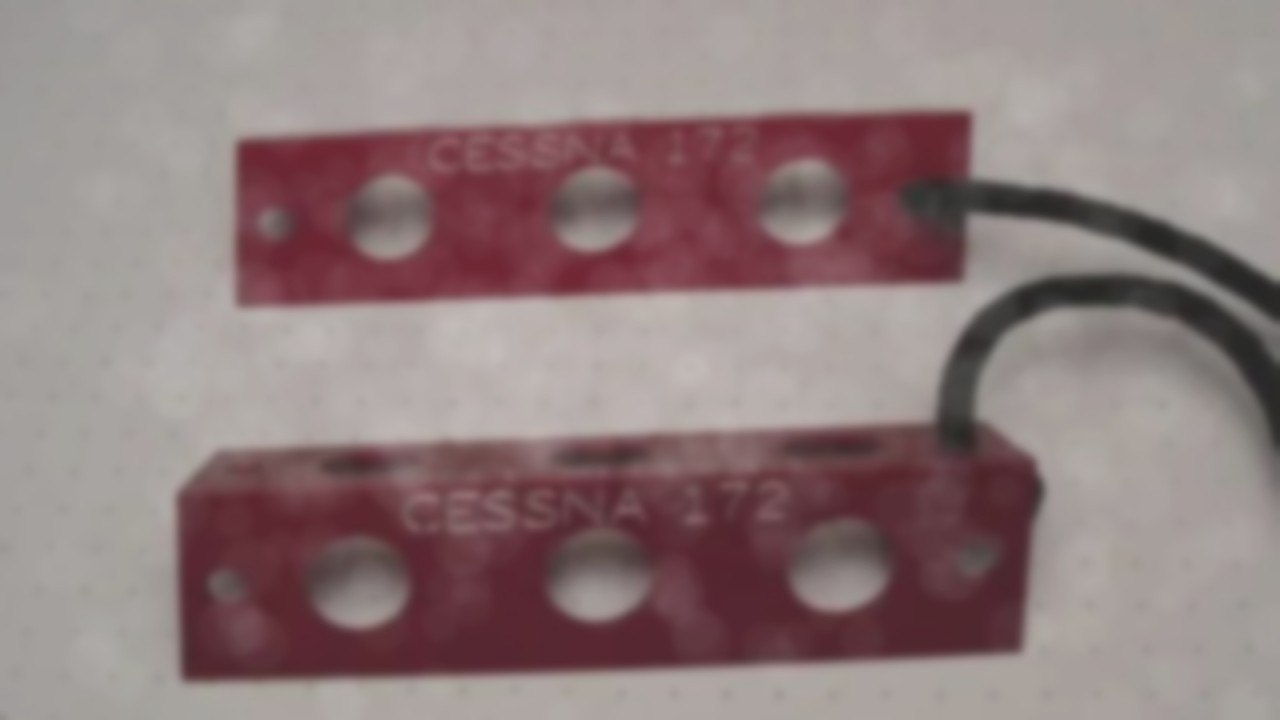chock: (158, 415, 1058, 689), (215, 103, 1000, 313)
